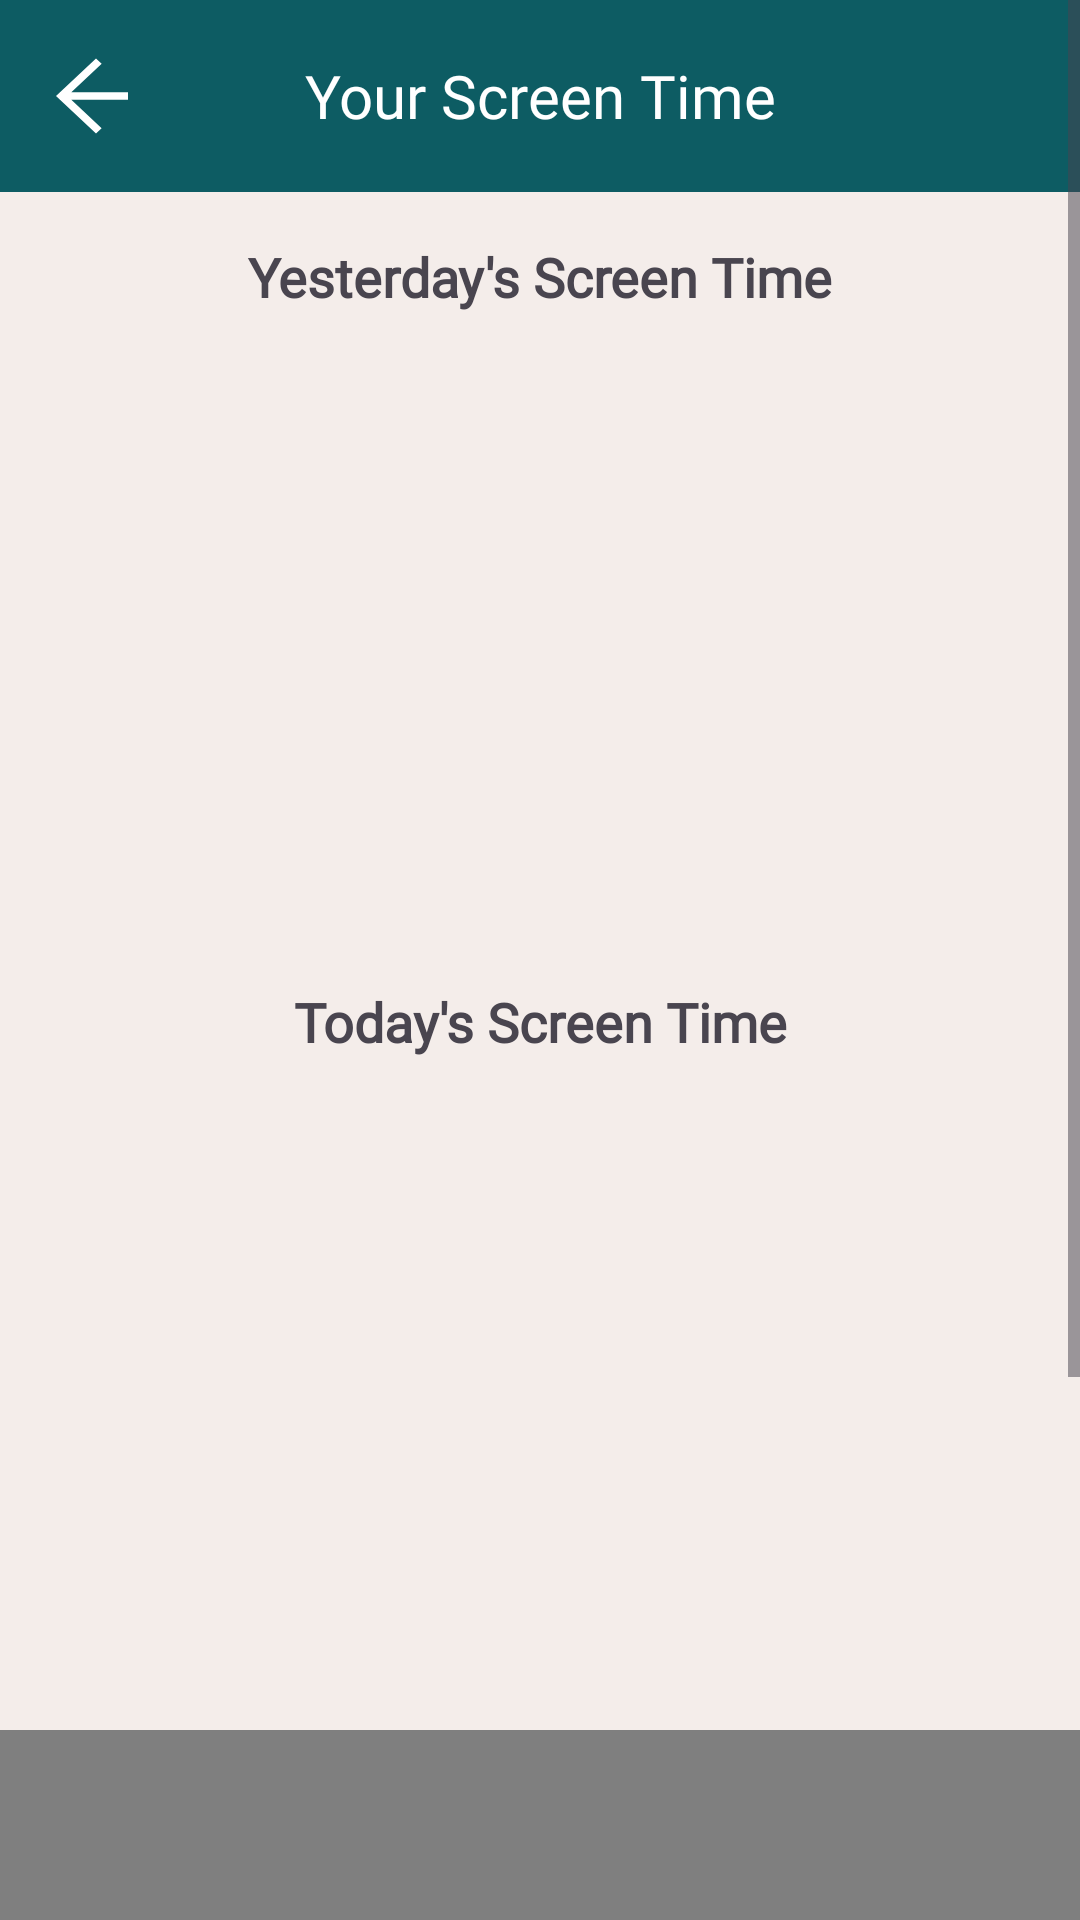

Where icons sit on this 1080 × 1920 app screen, as bbox=[x1, y1, x2, y2]:
Back: bbox=[56, 58, 128, 134]
